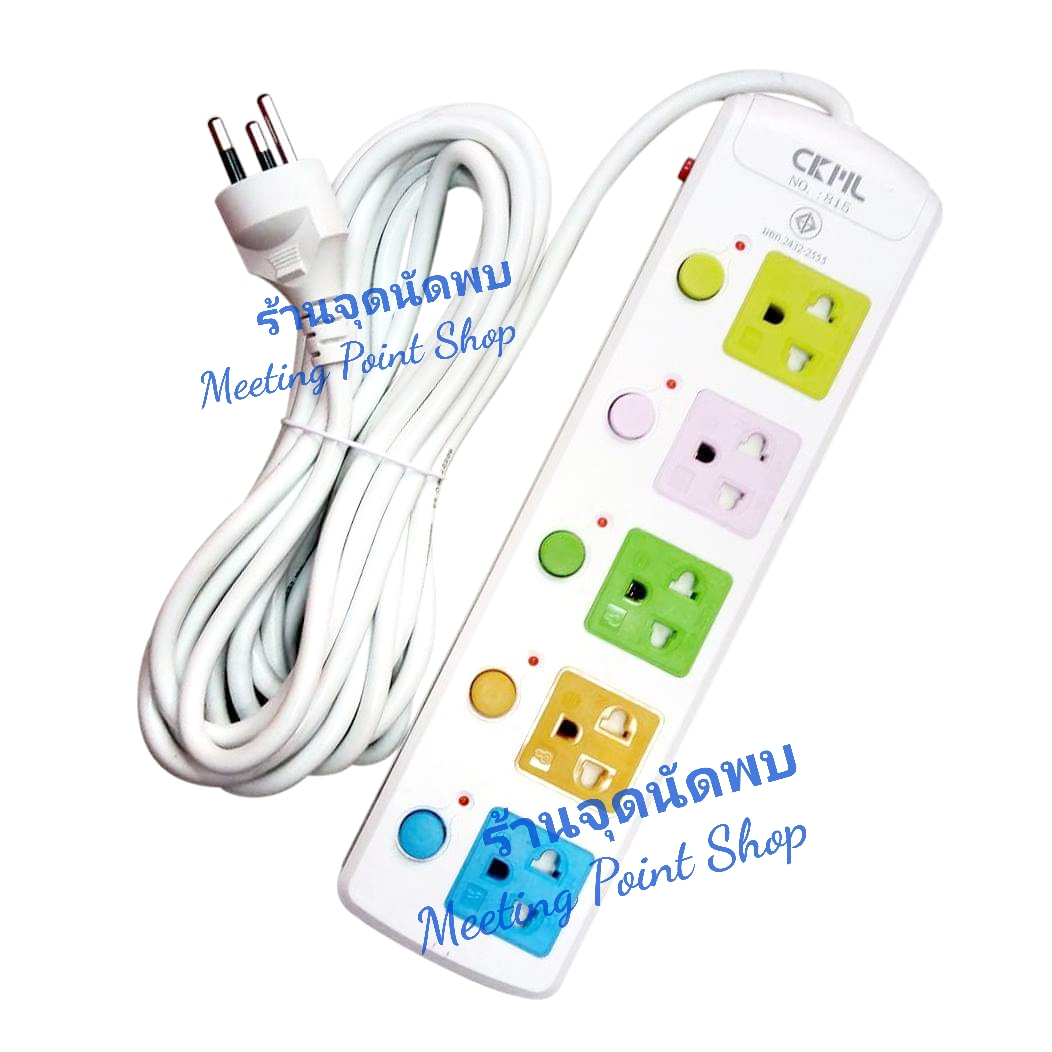Three_eye_plug: (324, 67, 951, 1013)
